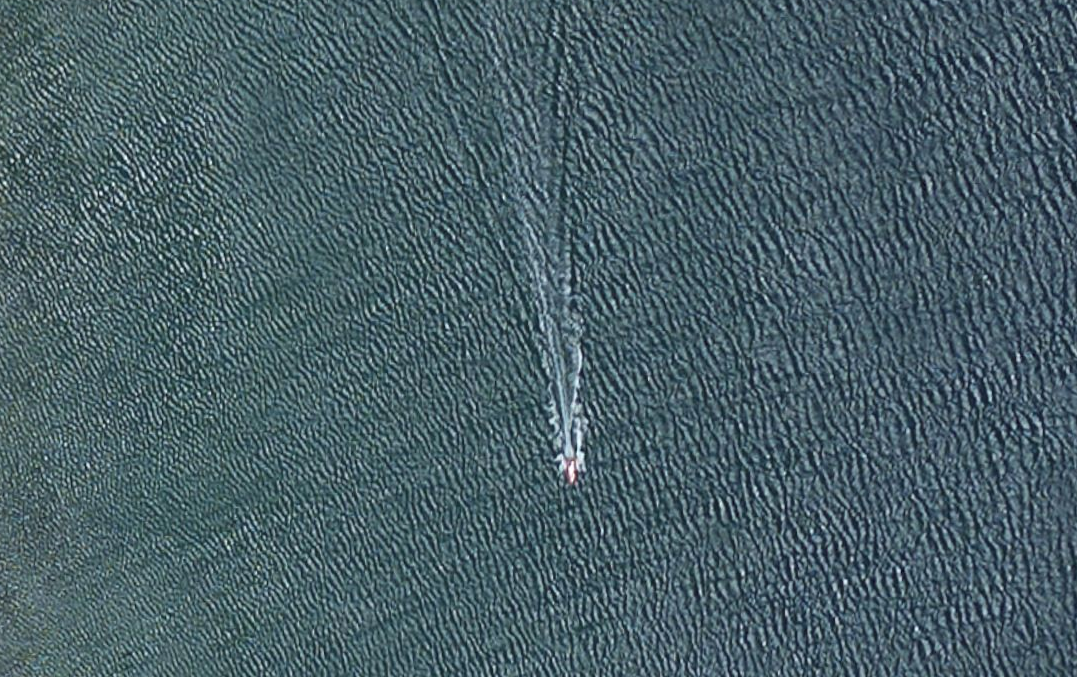ship: (562, 455, 582, 492)
